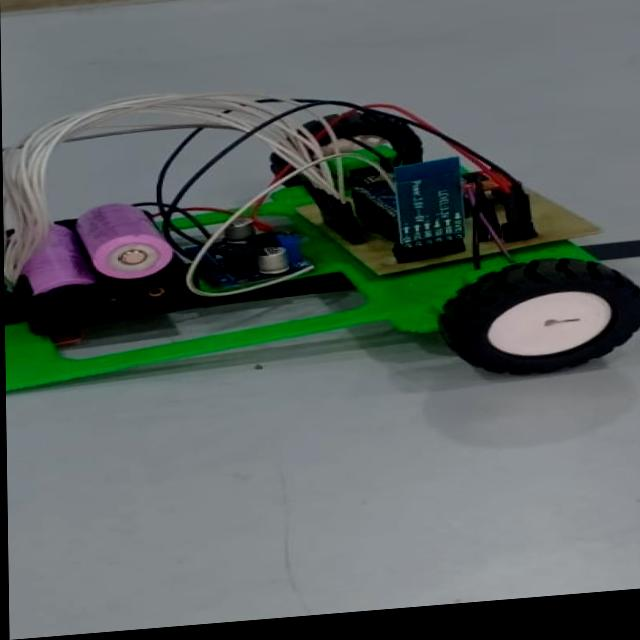vehicle: (2, 56, 640, 410)
